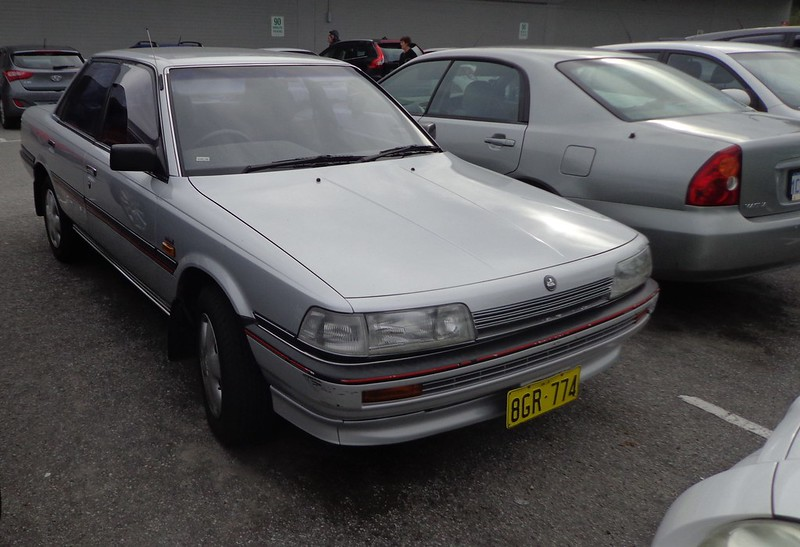number_plate: (486, 366, 615, 428)
